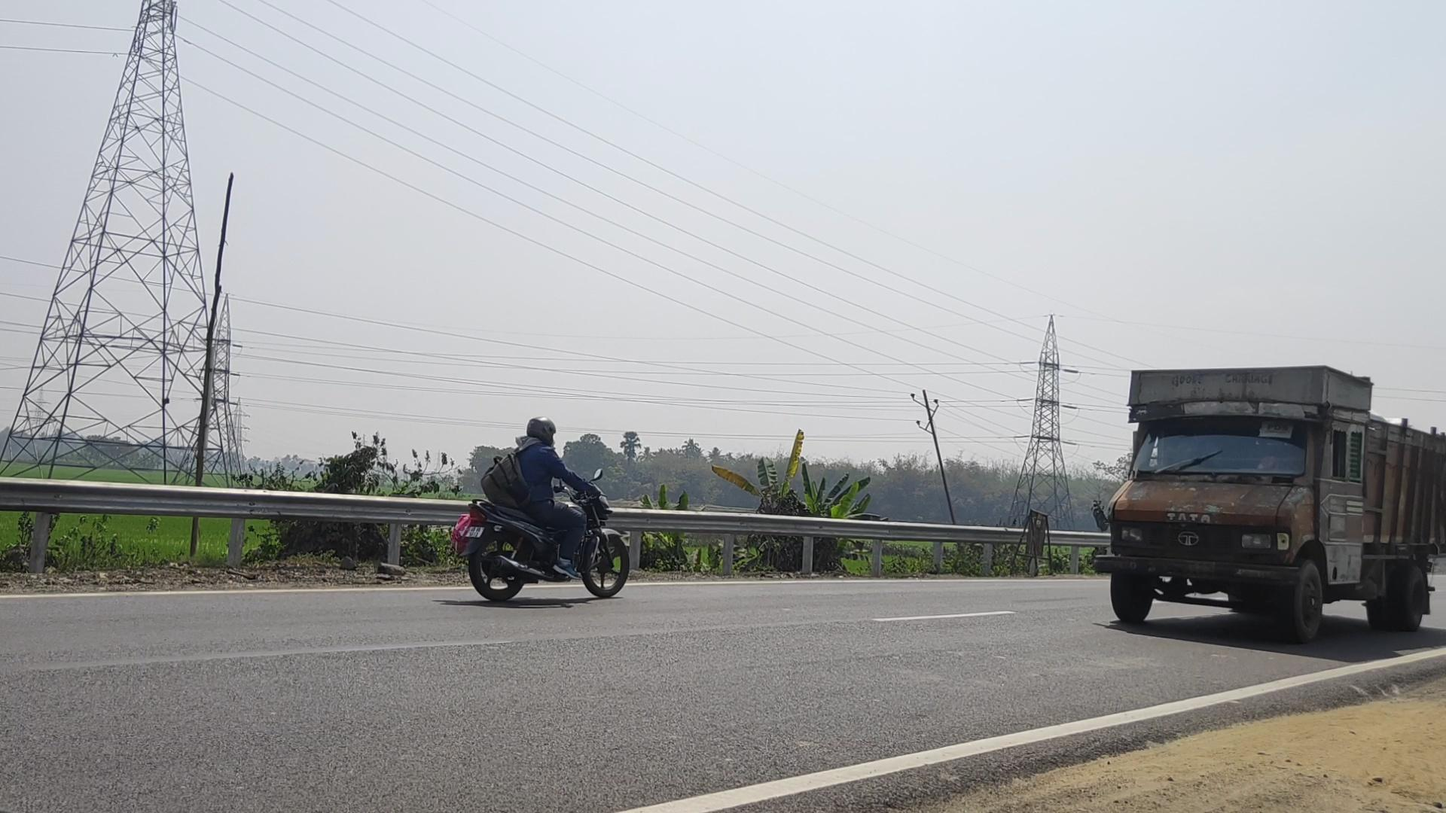bike: (455, 416, 631, 601)
truck: (1094, 364, 1445, 641)
